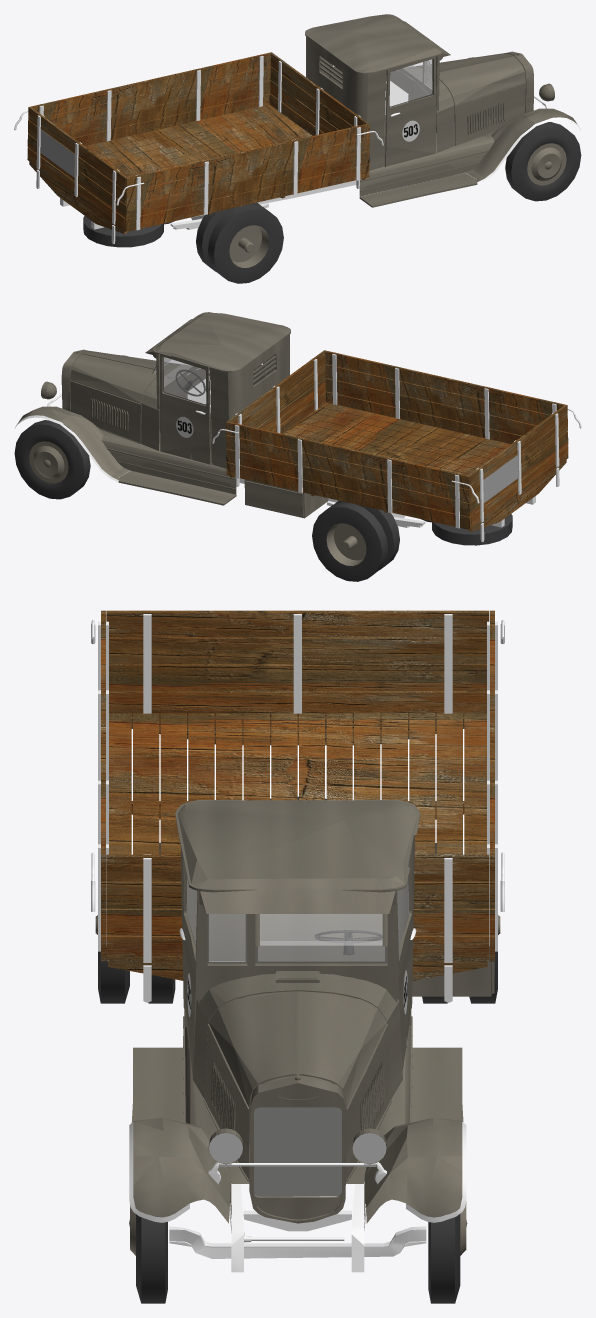
Rendered from ZIS5_L.glb.
The picture shows the model from 3 angles, top to bottom: view 1: azimuth 30°, elevation 25°; view 2: azimuth 150°, elevation 25°; view 3: azimuth 270°, elevation 25°; orthographic projection. The views are drawn at different scales.
Parts seen in each view (by area): view 1: ZIS5wood.001, ZIS5wood.007, ZIS5wood.008, ZIS5wood.011, ZIS5wood.012, ZIS5wood.013, ZIS5wood.009, ZIS5wood.005; view 2: ZIS5wood.001, ZIS5wood.007, ZIS5wood.008, ZIS5wood.011, ZIS5wood.012, ZIS5wood.013, ZIS5wood.009, ZIS5wood.005; view 3: ZIS5wood.007, ZIS5wood.001, ZIS5wood.011, ZIS5wood.013, ZIS5wood.008, ZIS5wood.010, ZIS5wood.006, ZIS5wood.005.
Part boxes in pixels (box(x1,y1,x2,y2)): ZIS5wood.001: box(27, 52, 370, 233); ZIS5wood.007: box(305, 14, 576, 207); ZIS5wood.008: box(83, 122, 581, 283); ZIS5wood.011: box(14, 54, 548, 243); ZIS5wood.012: box(229, 143, 566, 267); ZIS5wood.013: box(389, 59, 432, 106); ZIS5wood.009: box(40, 130, 74, 177); ZIS5wood.005: box(477, 117, 580, 184); ZIS5wood.001: box(225, 350, 568, 531); ZIS5wood.007: box(19, 312, 328, 518); ZIS5wood.008: box(14, 420, 512, 581); ZIS5wood.011: box(47, 352, 581, 542); ZIS5wood.012: box(29, 441, 366, 566); ZIS5wood.013: box(153, 357, 206, 404); ZIS5wood.009: box(483, 455, 517, 502); ZIS5wood.005: box(15, 415, 118, 482); ZIS5wood.007: box(131, 800, 494, 1223); ZIS5wood.001: box(101, 610, 494, 980); ZIS5wood.011: box(91, 610, 504, 1272); ZIS5wood.013: box(186, 864, 408, 961); ZIS5wood.008: box(98, 796, 497, 1303); ZIS5wood.010: box(254, 1107, 341, 1196); ZIS5wood.006: box(209, 1133, 386, 1163); ZIS5wood.005: box(129, 1122, 466, 1222).
Bounding box in the file's own units: 100 × 33.32 × 37.21.
Materials: 14 (3 with a texture image).
